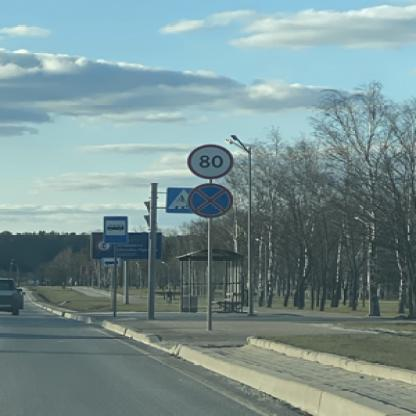crosswalk: (164, 186, 192, 212)
speedlimit: (184, 142, 232, 178)
